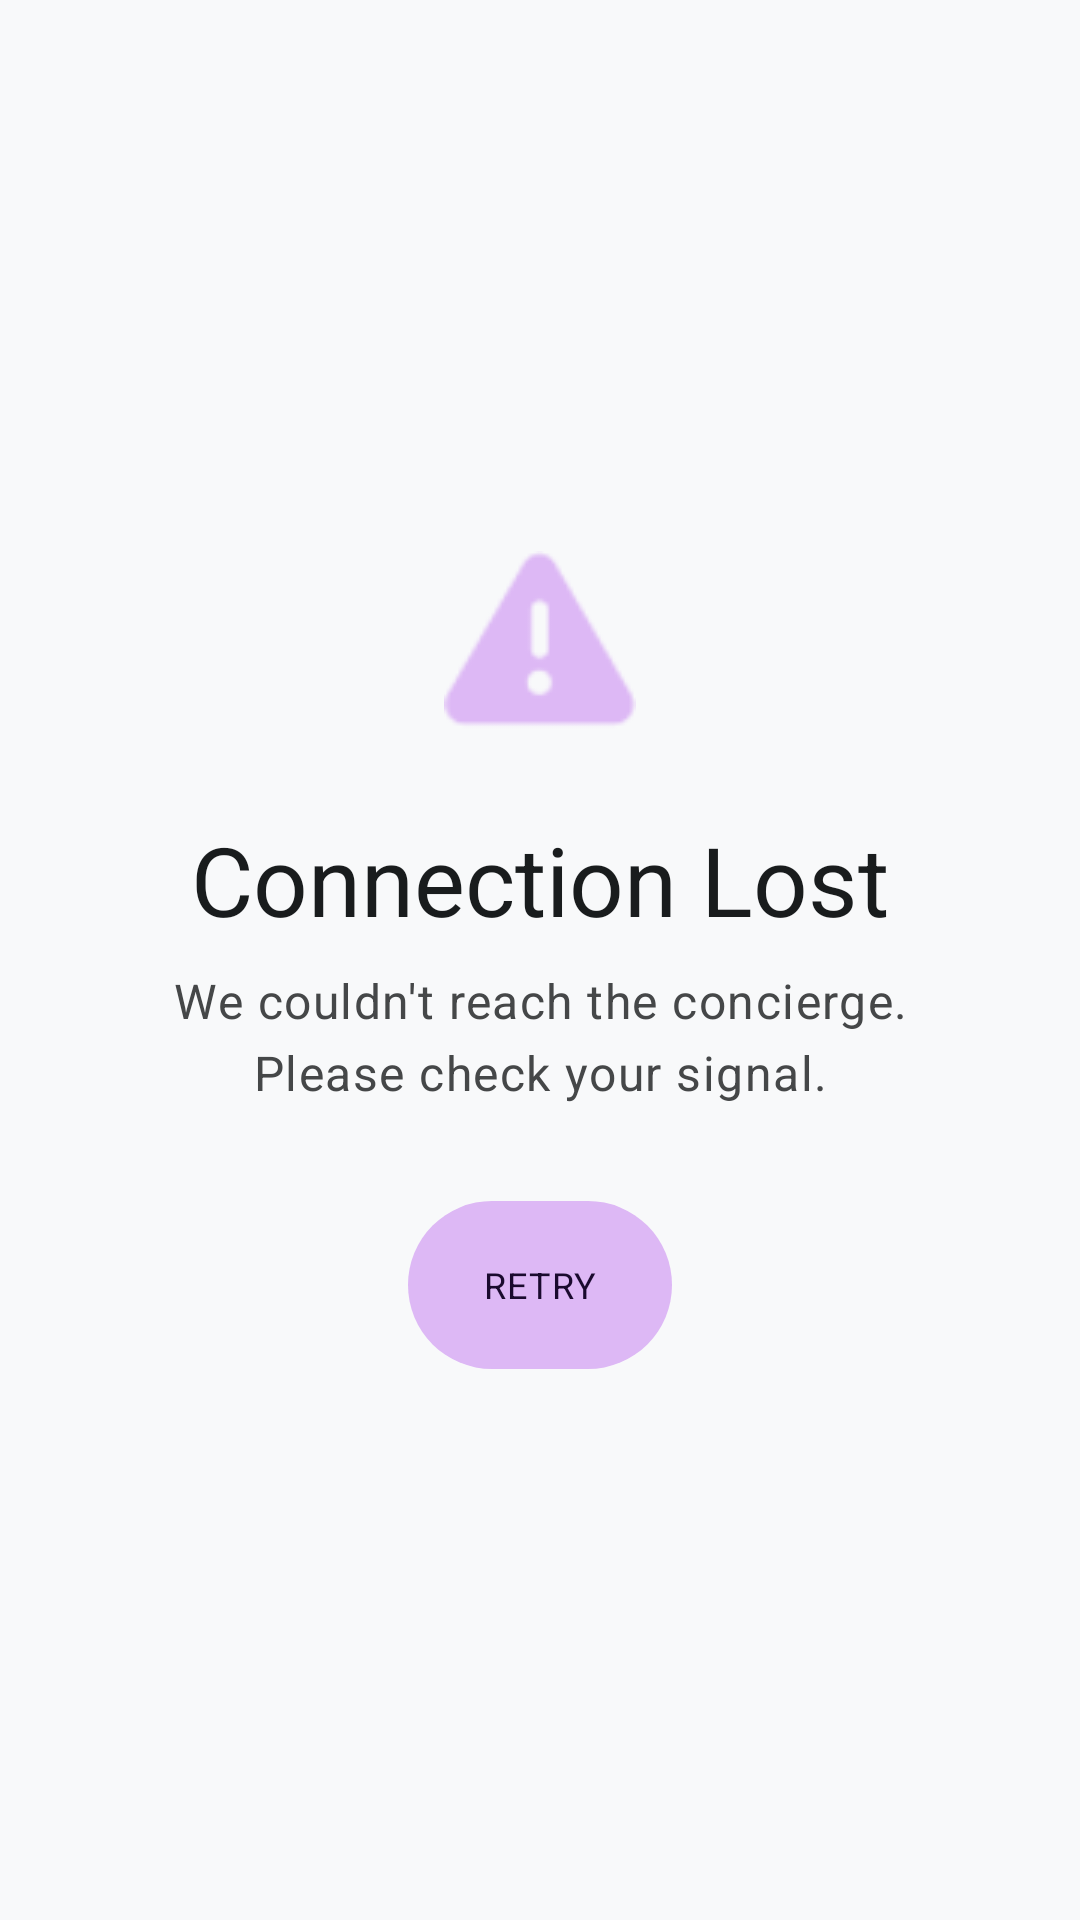

Locate icon controls on the screen. Image size 1080w x 1920h, boxes as rect(x1, y1, x2, y2).
alert: rect(444, 554, 634, 724)
